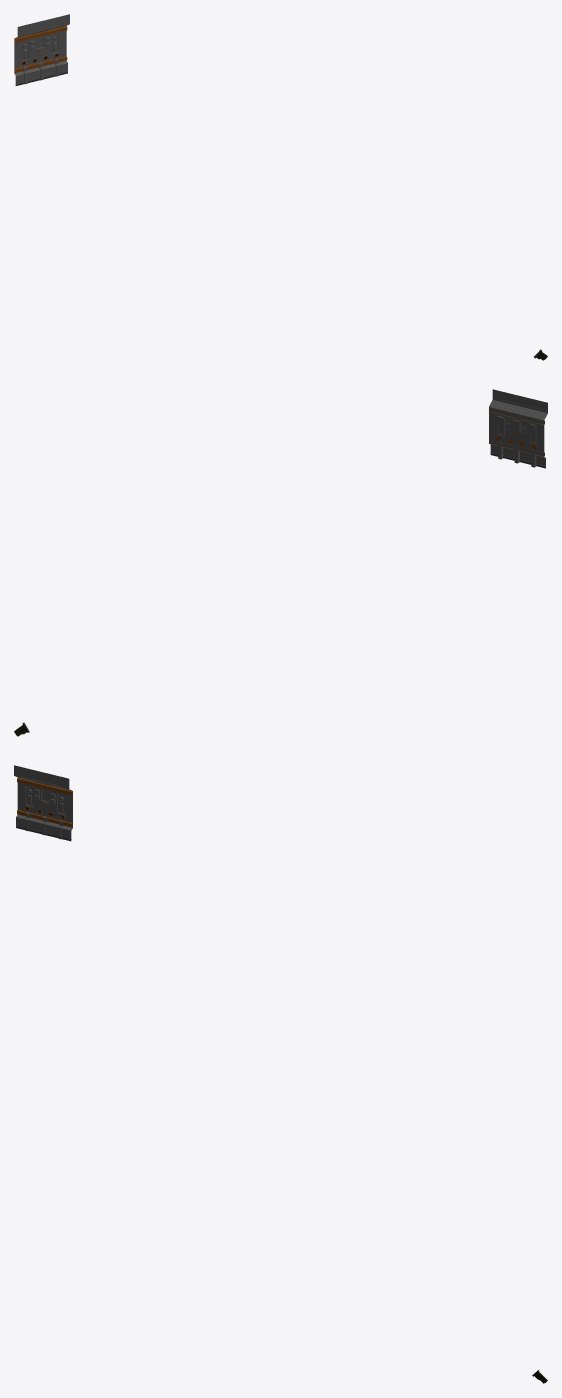
File: Wall_3_Plane.obj
3 renders of one model, top to bottom at view 1: azimuth 30°, elevation 25°; view 2: azimuth 150°, elevation 25°; view 3: azimuth 330°, elevation 25°, orthographic. The views are drawn at different scales.
Parts seen in each view (by area): view 1: Wall_3_Plane.001; view 2: Wall_3_Plane.001; view 3: Wall_3_Plane.001.
Boxes of the visible parts, box(x1,y1,x2,y2) form: Wall_3_Plane.001: box(14, 14, 69, 85); Wall_3_Plane.001: box(489, 389, 547, 468); Wall_3_Plane.001: box(14, 765, 72, 841).
Bounding box in the file's own units: 39.49 × 32.83 × 2.48.
